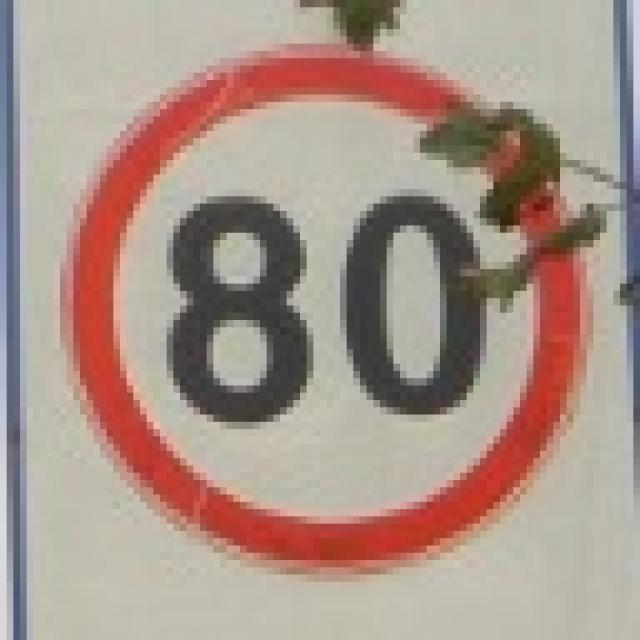Speed Limit -80-: (160, 183, 493, 434)
